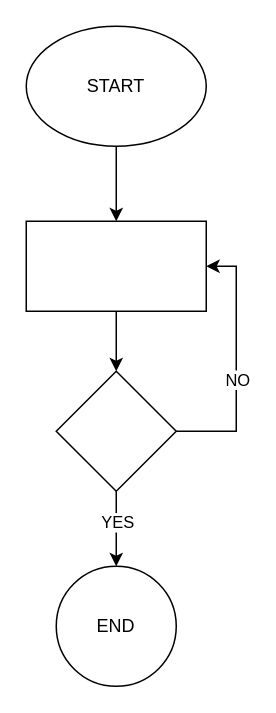
Image size: 276x713. Some labels were removed from this diagram. Here are the shapes that lost their labels. From the top down, the centre of each, then its label:
At point (115, 265): "EXIT PROGRAM".
At point (115, 430): "USER INPUT".
